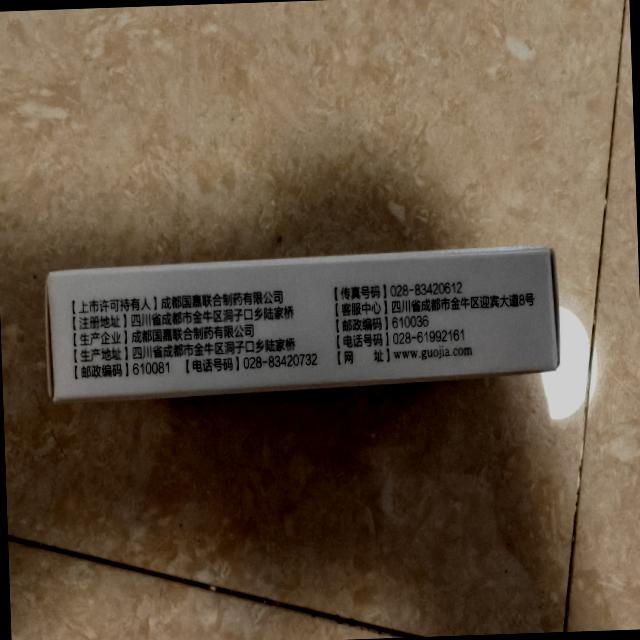box: (35, 236, 568, 414)
